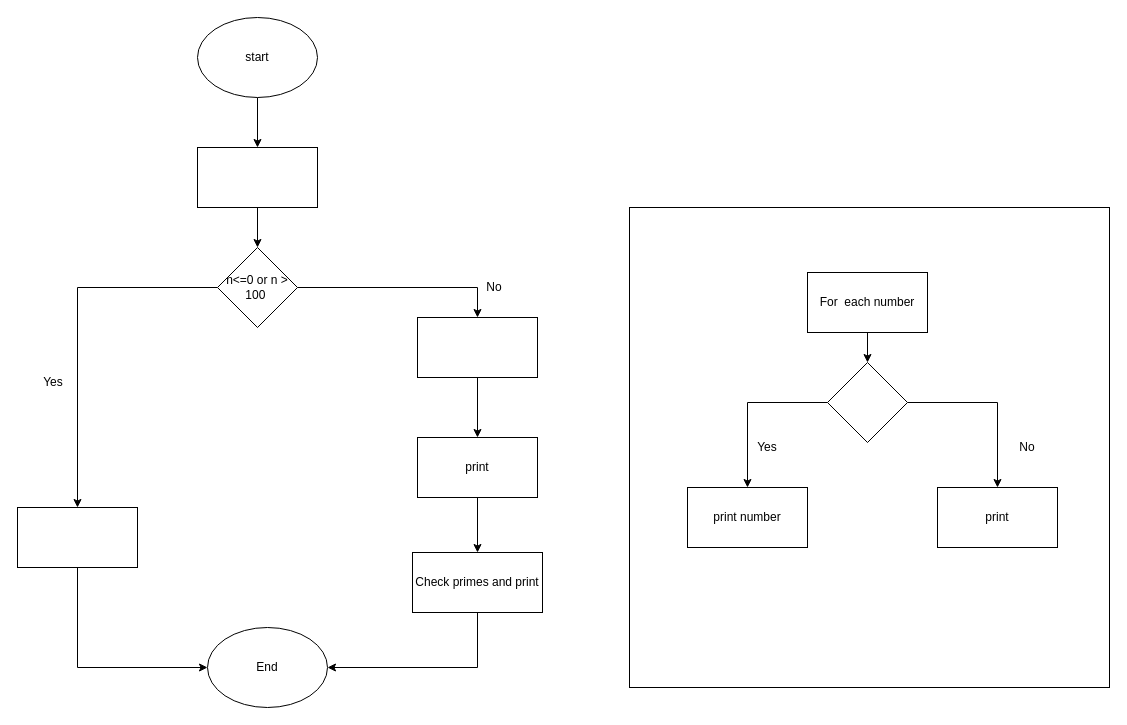
Some shapes in this 1127 by 725 pixel diagram are drawn without their labels. The centre of each missing label's shape, as x and y in pixels:
"input array values" belongs at [477,347].
"input N" belongs at [257,177].
"is prime" belongs at [867,402].
"print Error" belongs at [77,537].
